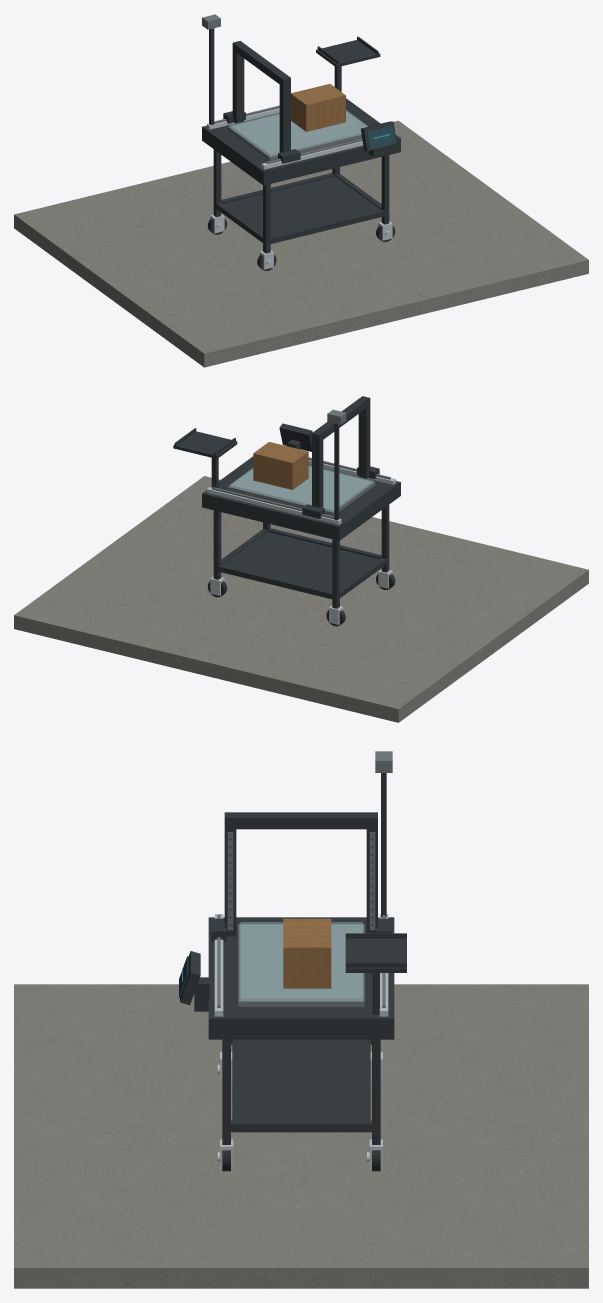
3 views of the same model, one above another, from view 1: azimuth 30°, elevation 25°; view 2: azimuth 150°, elevation 25°; view 3: azimuth 270°, elevation 25° (orthographic). The views are drawn at different scales.
Visible parts, largest first — view 1: Studio floor, Lower shelf, Dimensioner chassis, Weighing platform support, Transparent weighing glass, Sample SKU carton, Cart longitudinal rail, Laptop tray, Sensing gate upright.001, Sensing gate top, Sensing gate upright, Cart upright.002 (+7 smaller); view 2: Studio floor, Lower shelf, Dimensioner chassis, Weighing platform support, Transparent weighing glass, Sample SKU carton, Cart longitudinal rail.001, Laptop tray, Sensing gate upright, Sensing gate upright.001, Sensing gate top, Longitudinal sensing guide.001 (+7 smaller); view 3: Studio floor, Lower shelf, Dimensioner chassis, Weighing platform support, Transparent weighing glass, Sample SKU carton, Sensing gate top, Cart transverse rail.001, Laptop tray, Cart upright.002, Cart upright.003, Sensing gate upright (+2 smaller).
Boxes of the visible parts, left/top/right/bottom form: Studio floor: left=14, top=120, right=588, bottom=367; Lower shelf: left=223, top=176, right=379, bottom=235; Dimensioner chassis: left=202, top=98, right=400, bottom=185; Weighing platform support: left=227, top=110, right=367, bottom=160; Transparent weighing glass: left=229, top=110, right=368, bottom=156; Sample SKU carton: left=291, top=84, right=345, bottom=131; Cart longitudinal rail: left=267, top=209, right=389, bottom=244; Laptop tray: left=316, top=40, right=380, bottom=67; Sensing gate upright.001: left=232, top=48, right=244, bottom=123; Sensing gate top: left=232, top=41, right=290, bottom=86; Sensing gate upright: left=279, top=83, right=290, bottom=152; Cart upright.002: left=381, top=155, right=389, bottom=224; Studio floor: left=14, top=476, right=588, bottom=722; Lower shelf: left=223, top=532, right=379, bottom=591; Dimensioner chassis: left=202, top=456, right=400, bottom=540; Weighing platform support: left=227, top=466, right=375, bottom=515; Transparent weighing glass: left=229, top=465, right=373, bottom=511; Sample SKU carton: left=253, top=442, right=308, bottom=489; Cart longitudinal rail.001: left=213, top=564, right=336, bottom=600; Laptop tray: left=173, top=431, right=237, bottom=458; Sensing gate upright: left=358, top=403, right=370, bottom=478; Sensing gate upright.001: left=312, top=438, right=323, bottom=507; Sensing gate top: left=312, top=396, right=370, bottom=441; Longitudinal sensing guide.001: left=207, top=487, right=341, bottom=524; Studio floor: left=14, top=984, right=588, bottom=1288; Lower shelf: left=232, top=1039, right=370, bottom=1120; Dimensioner chassis: left=208, top=917, right=394, bottom=1039; Weighing platform support: left=238, top=924, right=364, bottom=1006; Transparent weighing glass: left=240, top=922, right=362, bottom=1000; Sample SKU carton: left=283, top=918, right=331, bottom=988; Sensing gate top: left=224, top=812, right=377, bottom=829; Cart transverse rail.001: left=223, top=1120, right=379, bottom=1132; Laptop tray: left=345, top=938, right=406, bottom=972; Cart upright.002: left=222, top=1039, right=230, bottom=1144; Cart upright.003: left=372, top=1039, right=380, bottom=1144; Sensing gate upright: left=224, top=829, right=236, bottom=936.
Size of the model in its own units: 3.5 by 1.99 by 3.
Materials: 9 (2 with a texture image).
